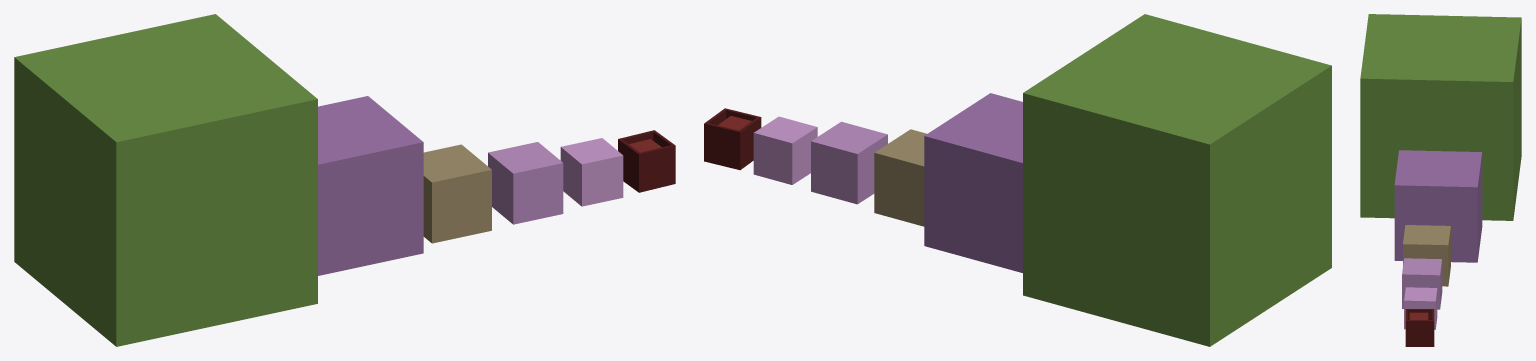
Rendered from Biomass_animation.glb.
3 views of the same model, side by side, from view 1: azimuth 30°, elevation 25°; view 2: azimuth 150°, elevation 25°; view 3: azimuth 270°, elevation 25° (orthographic). The views are drawn at different scales.
Visible parts, largest first — view 1: Fungi - Fungi.008, Bacteria - Bacteria.004, Fungi - Fungi.007, Archaea - Archaea.004, Protists - Protists.004, Animals - Animals.008; view 2: Fungi - Fungi.008, Bacteria - Bacteria.004, Archaea - Archaea.004, Fungi - Fungi.007, Protists - Protists.004, Animals - Animals.008; view 3: Fungi - Fungi.008, Bacteria - Bacteria.004, Fungi - Fungi.007, Archaea - Archaea.004, Animals - Animals.008, Protists - Protists.004, Animals - Fish.008.
Part boxes in pixels (x1,y1,x2,y2): Fungi - Fungi.008: [14, 14, 317, 346]; Bacteria - Bacteria.004: [318, 96, 423, 275]; Fungi - Fungi.007: [423, 144, 491, 243]; Archaea - Archaea.004: [488, 142, 563, 224]; Protists - Protists.004: [560, 138, 623, 206]; Animals - Animals.008: [618, 130, 675, 192]; Fungi - Fungi.008: [1023, 14, 1331, 346]; Bacteria - Bacteria.004: [924, 93, 1022, 272]; Archaea - Archaea.004: [811, 121, 887, 204]; Fungi - Fungi.007: [874, 129, 926, 226]; Protists - Protists.004: [753, 116, 817, 184]; Animals - Animals.008: [704, 108, 761, 170]; Fungi - Fungi.008: [1360, 14, 1521, 220]; Bacteria - Bacteria.004: [1394, 150, 1482, 262]; Fungi - Fungi.007: [1403, 225, 1450, 286]; Archaea - Archaea.004: [1402, 258, 1442, 309]; Animals - Animals.008: [1405, 309, 1434, 346]; Protists - Protists.004: [1404, 287, 1437, 329]; Animals - Fish.008: [1409, 312, 1428, 319].
Bounding box in the file's own units: 23.05 × 7.69 × 8.09.
